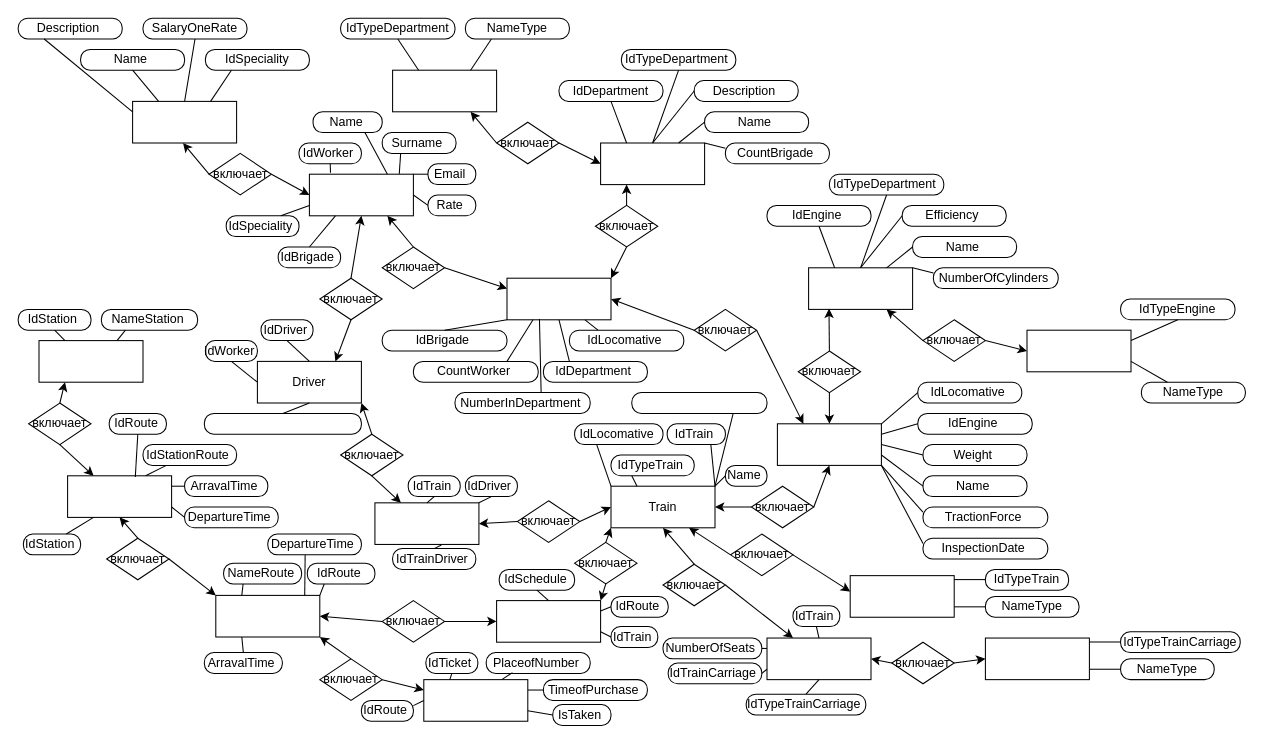
Some shapes in this 1264 by 744 pixel diagram are drawn without their labels. The centre of each missing label's shape, as x and y in pixels:
"Brigade" goes at (x=558, y=298).
"DateOfMedicalExamination" goes at (x=282, y=423).
"Department" goes at (x=652, y=163).
"Engine" goes at (x=860, y=288).
"Locomative" goes at (x=828, y=444).
"NumberOfTrainCarriage" goes at (x=699, y=402).
"Route" goes at (x=267, y=615).
"Schedule" goes at (x=548, y=621).
"Speciality" goes at (x=184, y=121).
"Station" goes at (x=90, y=361).
"Station_Route" goes at (x=119, y=496).
"Ticket" goes at (x=475, y=700).
"Train_Driver" goes at (x=426, y=523).
"TrainCarriage" goes at (x=818, y=658).
"TypeDepartment" goes at (x=444, y=90).
"TypeEngine" goes at (x=1078, y=350).
"TypeTrain" goes at (x=901, y=596).
"TypeTrainCarriage" goes at (x=1036, y=658).
"Worker" goes at (x=360, y=194).
